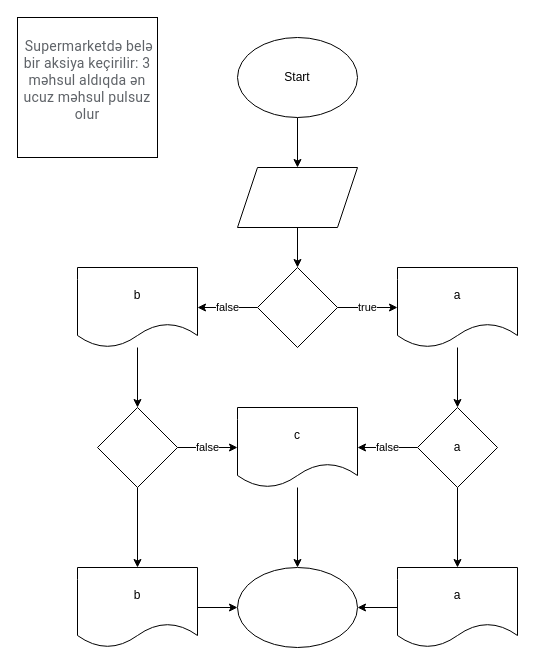
Some shapes in this 535 by 665 pixel diagram are drawn without their labels. Each missing label, with the centre of its shape:
a>b: point (297, 307)
b>c: point (137, 447)
End: point (297, 607)
var a,b,c: point (297, 197)
